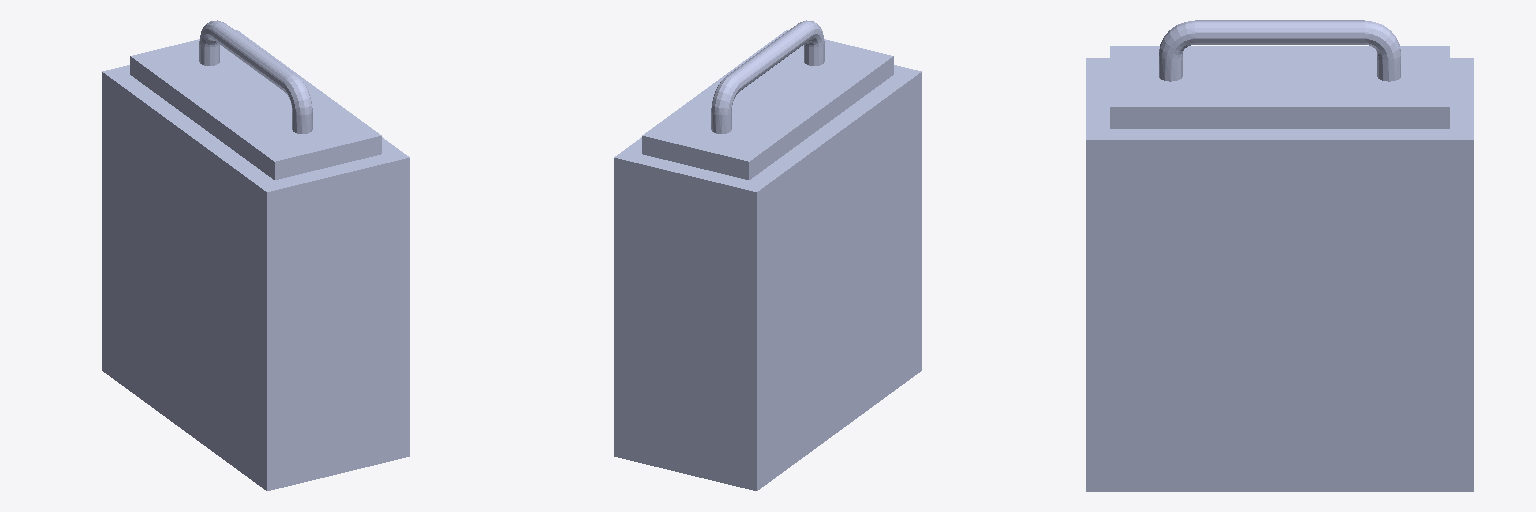
URDF robot description (satellite_battery):
<?xml version="1.0" encoding="utf-8"?>
<!-- This URDF was automatically created by SolidWorks to URDF Exporter! Originally created by [author] ([email redacted]) 
     Commit Version: 1.6.0-4-g7f85cfe  Build Version: 1.6.7995.38578
     For more information, please see http://wiki.ros.org/sw_urdf_exporter -->
<robot name="satellite_battery" xmlns:xacro="http://www.ros.org/wiki/xacro">
  <link name="base_link">
    <inertial>
      <origin
        xyz="0 0 0.0096752"
        rpy="0 0 0" />
      <mass
        value="35.093" />
      <inertia
        ixx="1.0118"
        ixy="-3.7165E-17"
        ixz="6.5992E-17"
        iyy="0.65252"
        iyz="-4.4916E-16"
        izz="0.5956" />
    </inertial>
    <visual>
      <origin
        xyz="0 0 0"
        rpy="0 0 0" />
      <geometry>
        <mesh
          filename="../meshes/base_link.STL" />
      </geometry>
      <material
        name="">
        <color
          rgba="0.79216 0.81961 0.93333 1" />
      </material>
    </visual>
    <collision>
      <origin
        xyz="0 0 0"
        rpy="0 0 0" />
      <geometry>
        <mesh
          filename="../meshes/base_link.STL" />
      </geometry>
    </collision>
  </link>
<!--   <link name="attachment">
    <inertial>
      <origin rpy="0 0 0" xyz="0 0 0"/>
       <mass value="0.0"/>
       <inertia ixx="0.1" ixy="0" ixz="0" iyy="0.1" iyz="0" izz="0.1"/>
    </inertial>
  </link>
  <joint name="joint0" type="fixed">
    <origin rpy="0 0 0" xyz="0 0 0.2794"/>
    <parent link="base_link"/>
    <child link="attachment"/>
    <axis xyz="0 0 0"/>
  </joint>  -->
</robot>

--- What the picture shows (computed from the rendered views, not written in the file) ---
The picture shows the robot from 3 angles, left to right: view 1: azimuth 30°, elevation 25°; view 2: azimuth 150°, elevation 25°; view 3: azimuth 270°, elevation 25°; orthographic projection.
Robot: satellite_battery — 1 links, 0 joints (none); root link base_link; default pose: every joint at zero.
Visible links, largest first — view 1: base_link; view 2: base_link; view 3: base_link.
Boxes of the visible links, bbox=[...] form: base_link: bbox=[102, 20, 409, 490]; base_link: bbox=[614, 20, 921, 490]; base_link: bbox=[1086, 20, 1473, 491].
Size in the robot's own frame: 0.2032 by 0.4064 by 0.4953 metres.
1 mesh visuals loaded from 1 distinct referenced files (1 binary STL).